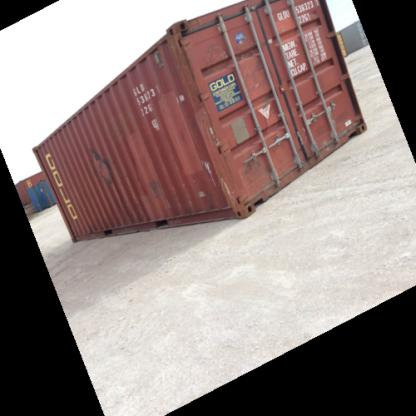Damage: (83, 144, 118, 182), (104, 200, 146, 224), (237, 151, 276, 175), (237, 40, 268, 65), (143, 173, 165, 197), (200, 156, 218, 185), (340, 110, 362, 131), (146, 113, 168, 132), (220, 176, 234, 204), (192, 184, 209, 201), (172, 86, 188, 103)
